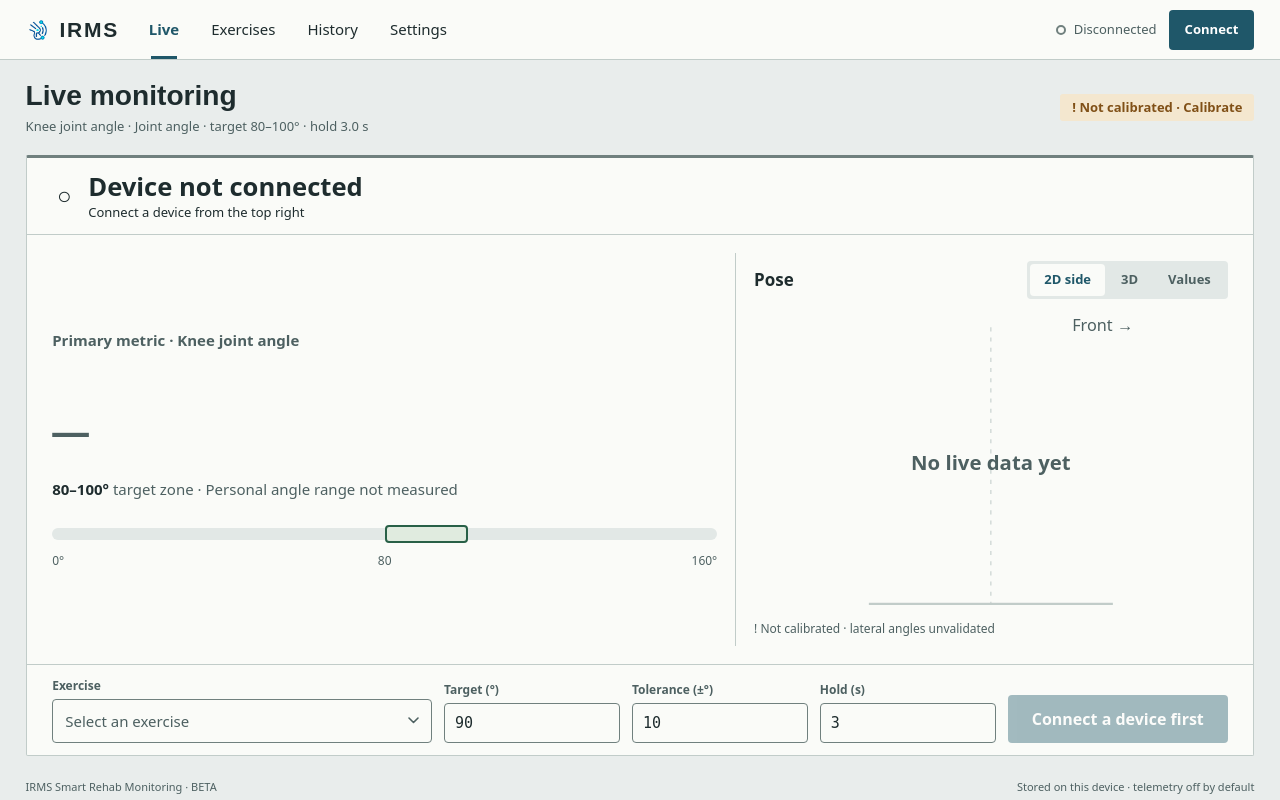
Test case: views render no CJK with language = en › exercises list, inspector and editor
The width and height of the screenshot is (1280, 800).
Click the button "Exercises" at (243, 30), box [199, 0, 287, 59]
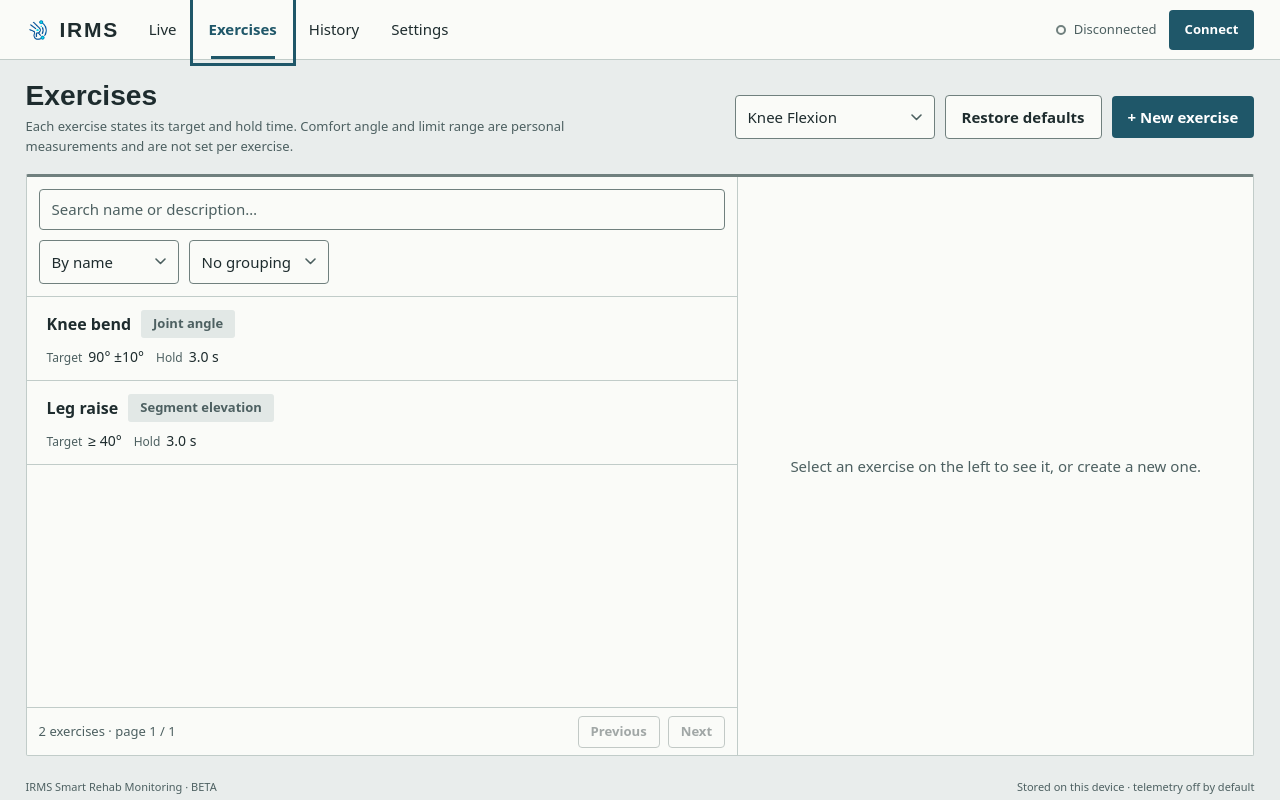
Expected: the heading "Exercises" is shown, [26, 80, 157, 111]
Click the button "Leg raise Segment elevation Target≥ 40° Hold3.0 s" at (82, 408), box [27, 381, 737, 465]
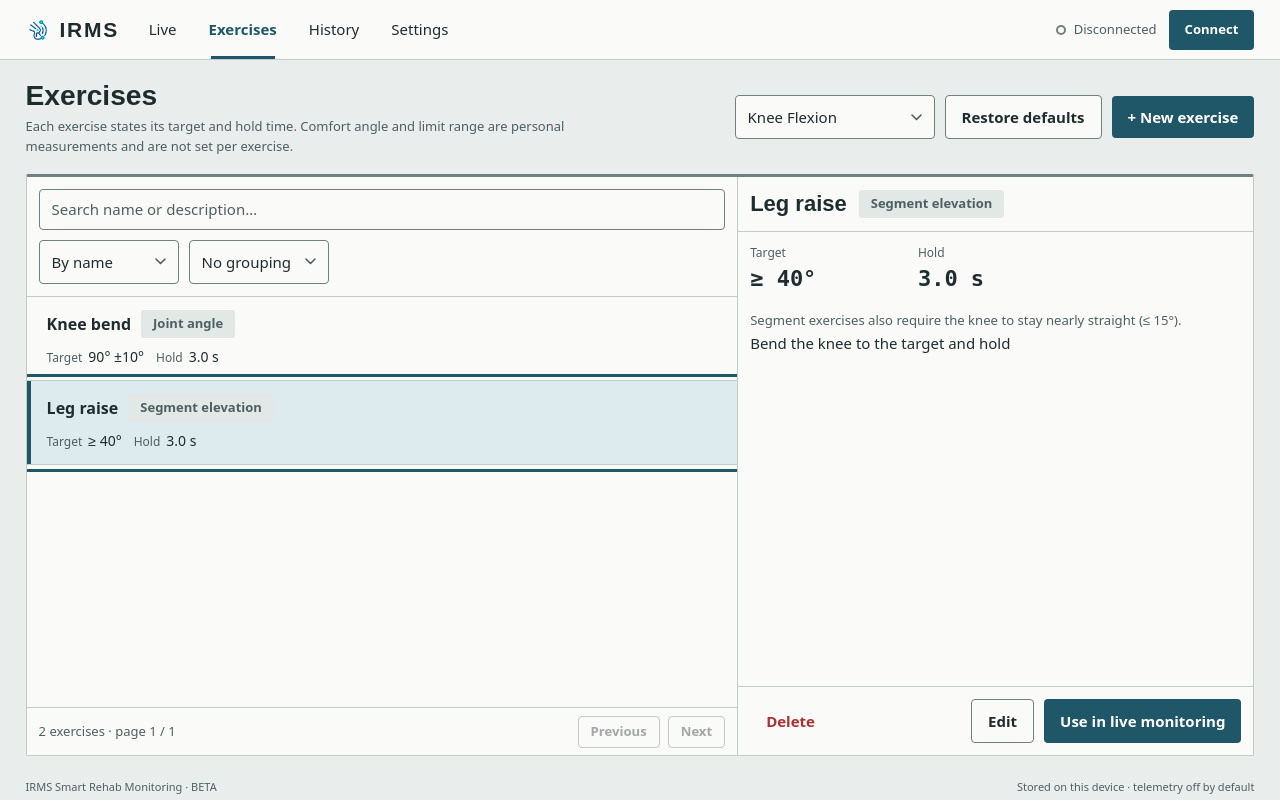
Click the button "Edit" at (1003, 721), box [971, 699, 1034, 743]
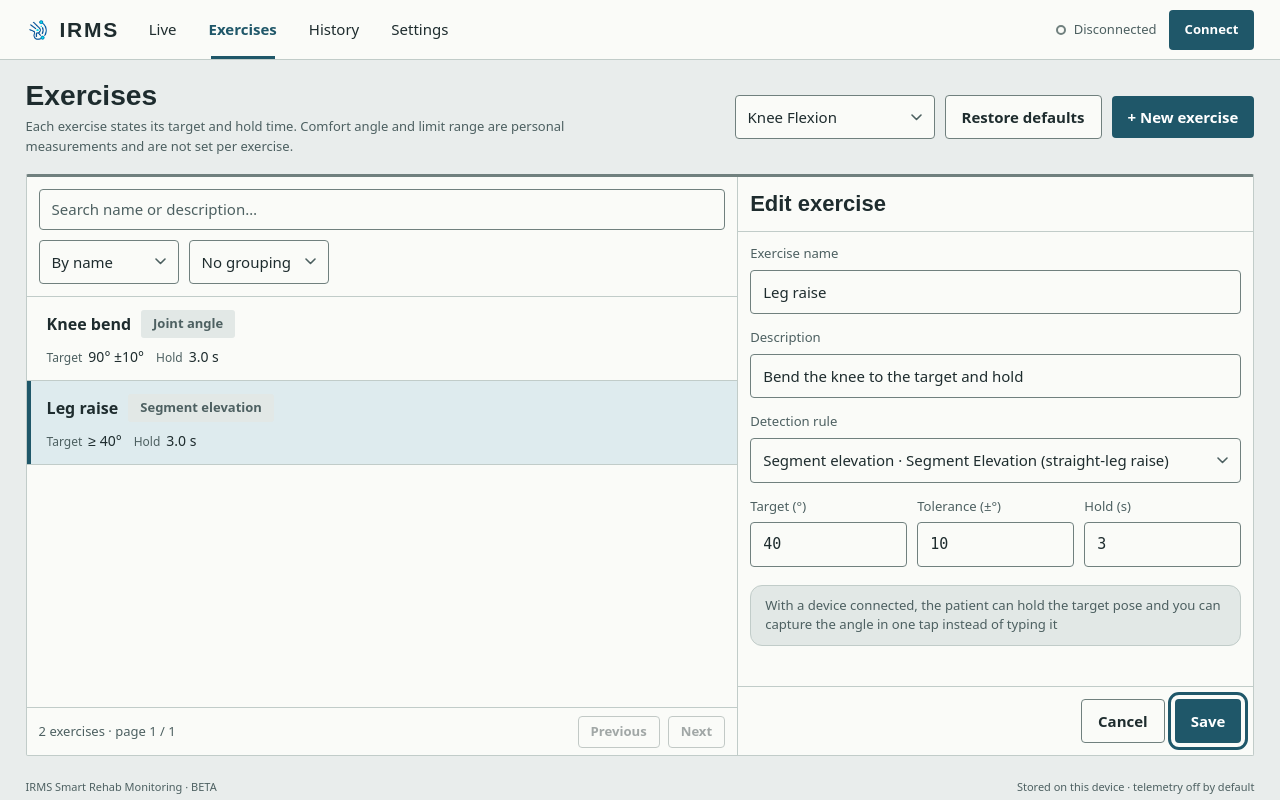
Click the button "Cancel" at (1123, 721), box [1081, 699, 1165, 743]
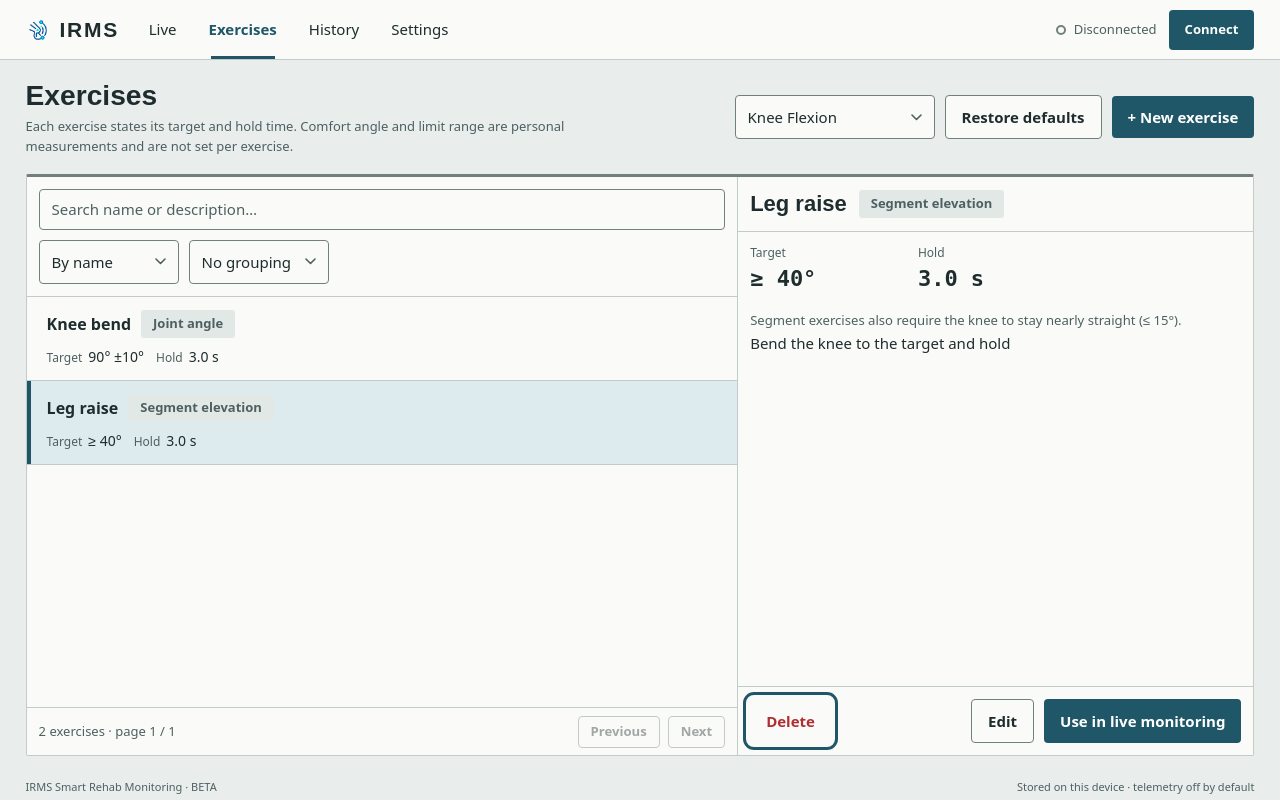
Click the button "Knee bend Joint angle Target90° ±10° Hold3.0 s" at (89, 324), box [27, 297, 737, 381]
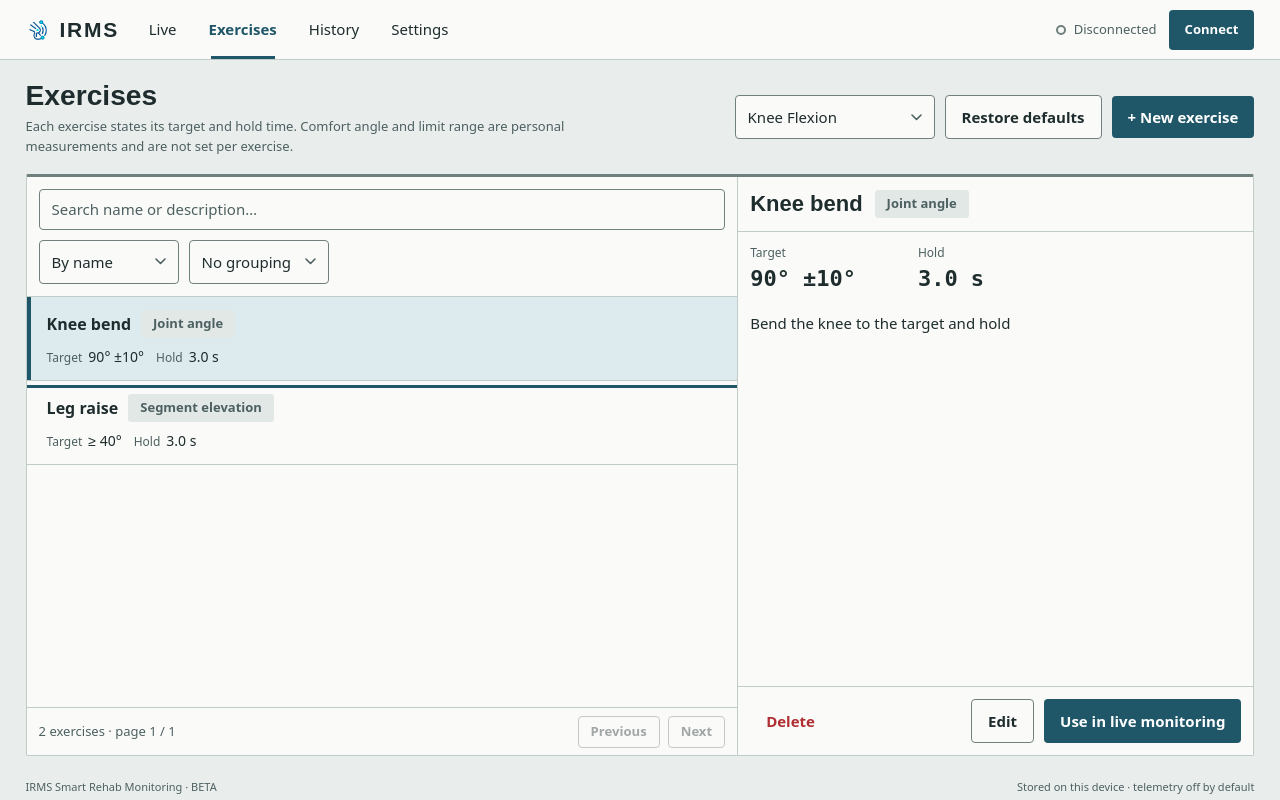
Click the button "Delete" at (790, 721), box [750, 699, 831, 743]
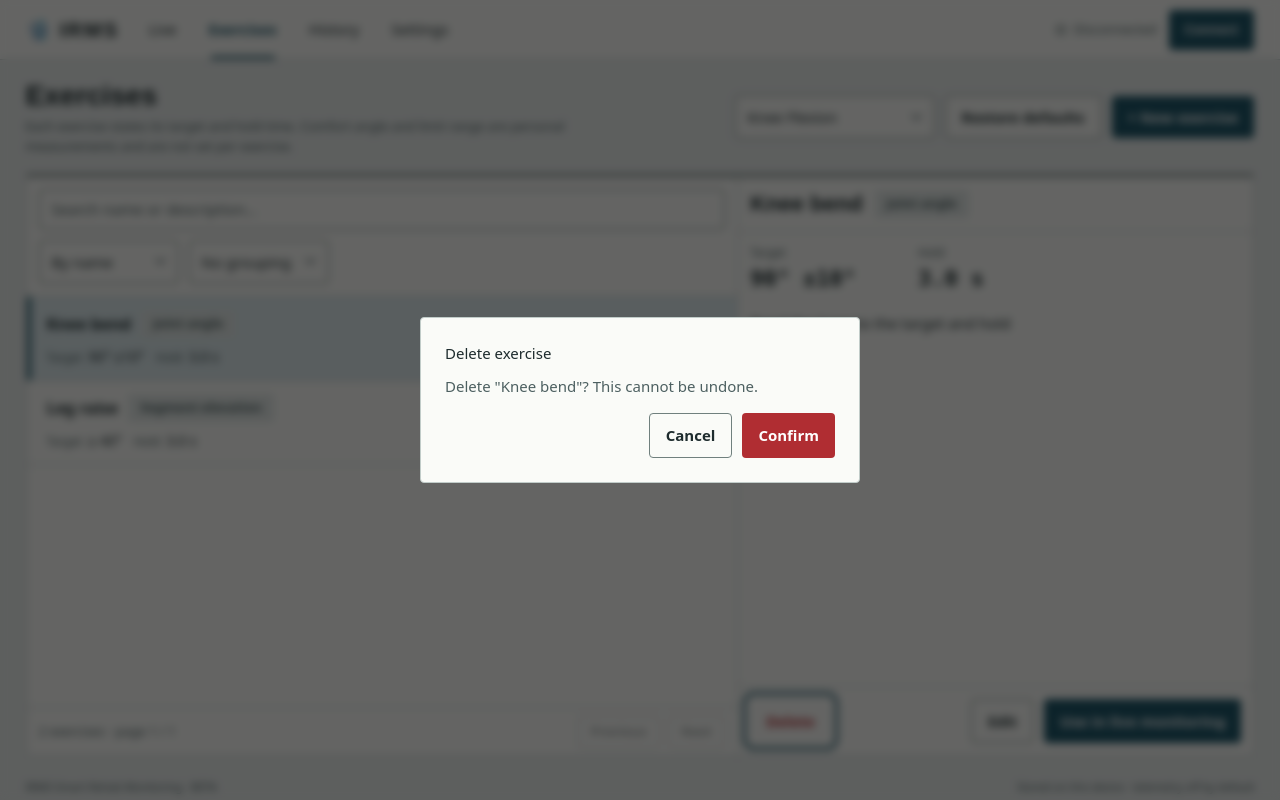
Expected: the dialog is shown, [420, 317, 860, 483]
